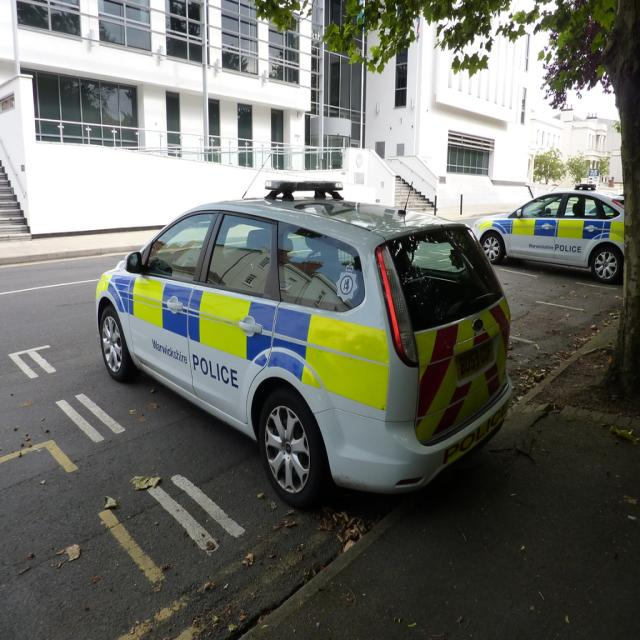car: (93, 153, 516, 504)
